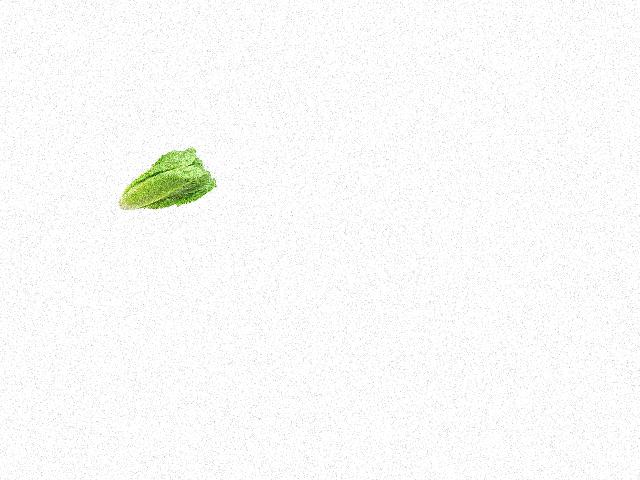lettuce: (109, 146, 216, 211)
